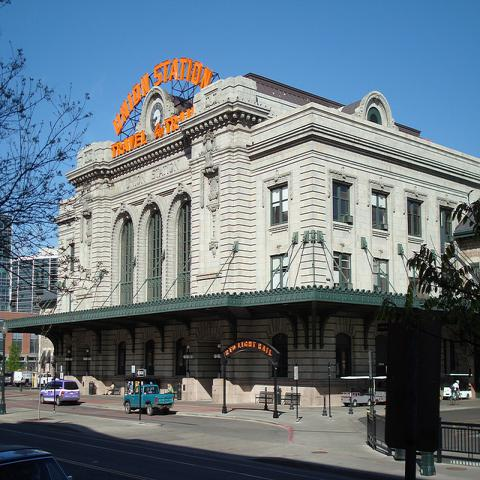bus: (340, 374, 387, 408)
car: (0, 443, 74, 479), (39, 380, 80, 406), (443, 387, 452, 398), (4, 377, 12, 384)
truck: (123, 384, 175, 416), (41, 373, 59, 388)
